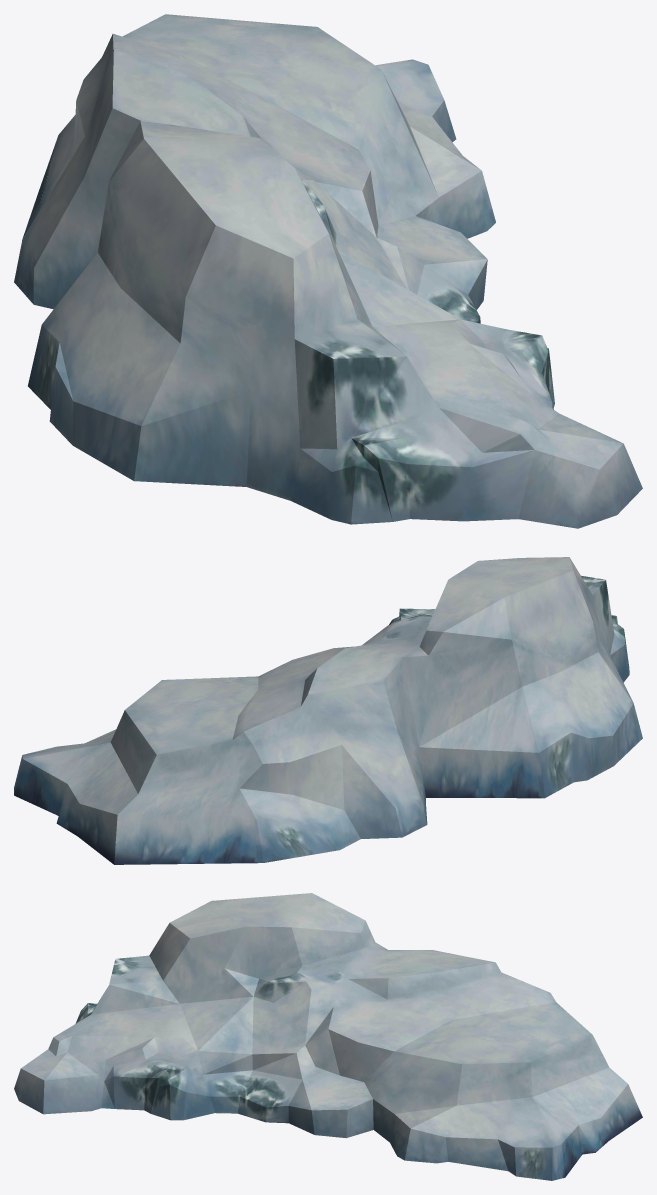
The model's file is map_114_shitou_7.fbx.
3 renders of one model, top to bottom at view 1: azimuth 30°, elevation 25°; view 2: azimuth 150°, elevation 25°; view 3: azimuth 270°, elevation 25°, orthographic. The views are drawn at different scales.
Parts seen in each view (by area): view 1: map_114_shitou_7; view 2: map_114_shitou_7; view 3: map_114_shitou_7.
Boxes of the visible parts, x1,y1,x2,y2 form: map_114_shitou_7: (14,14,642,528); map_114_shitou_7: (14,557,642,864); map_114_shitou_7: (14,893,642,1180).
Size of the model in its own units: 2.53 by 0.9664 by 3.81.
